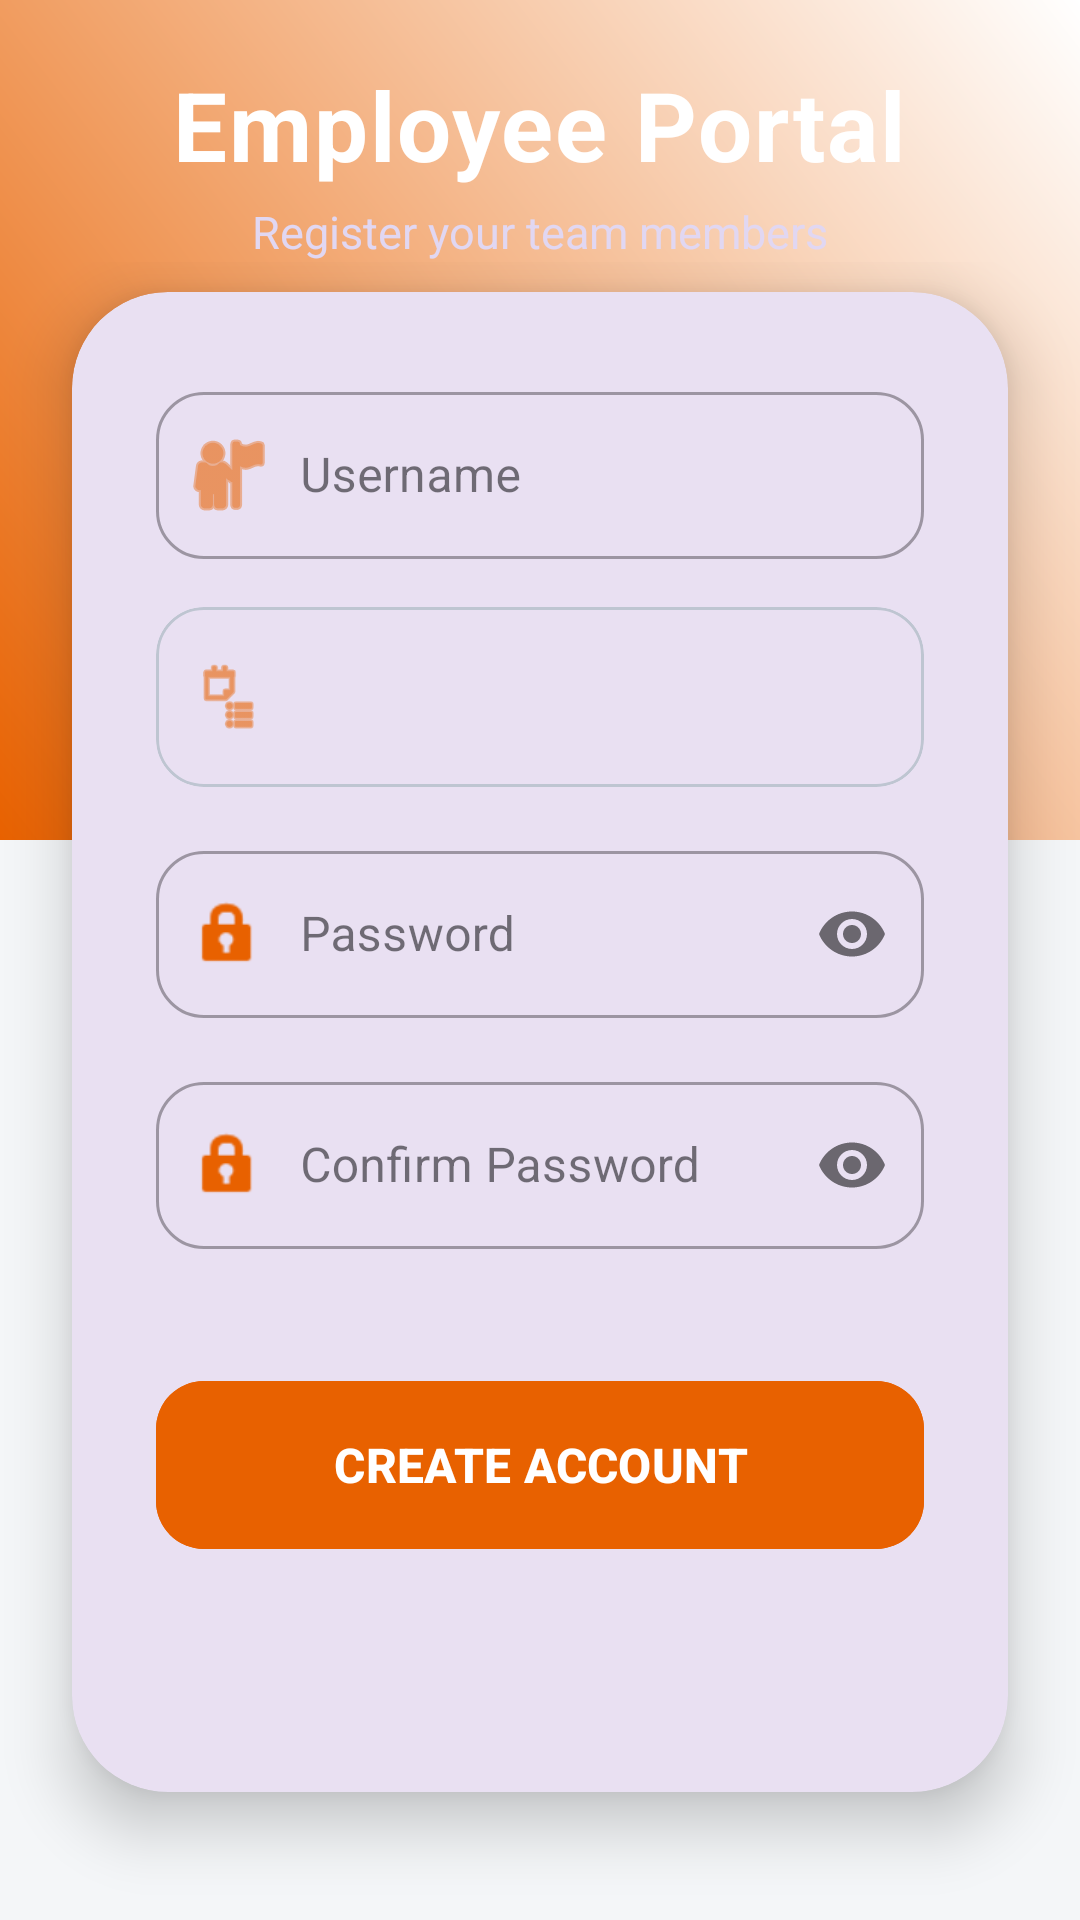

Icons on this 1080w x 1920h Android screen, each with its box as (x1, y1, x2, y2):
agenda: (203, 665, 254, 729)
